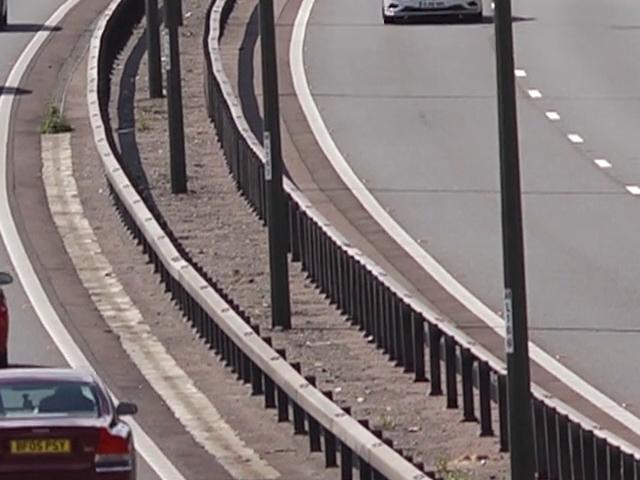car: (0, 374, 145, 480), (376, 0, 489, 28)
